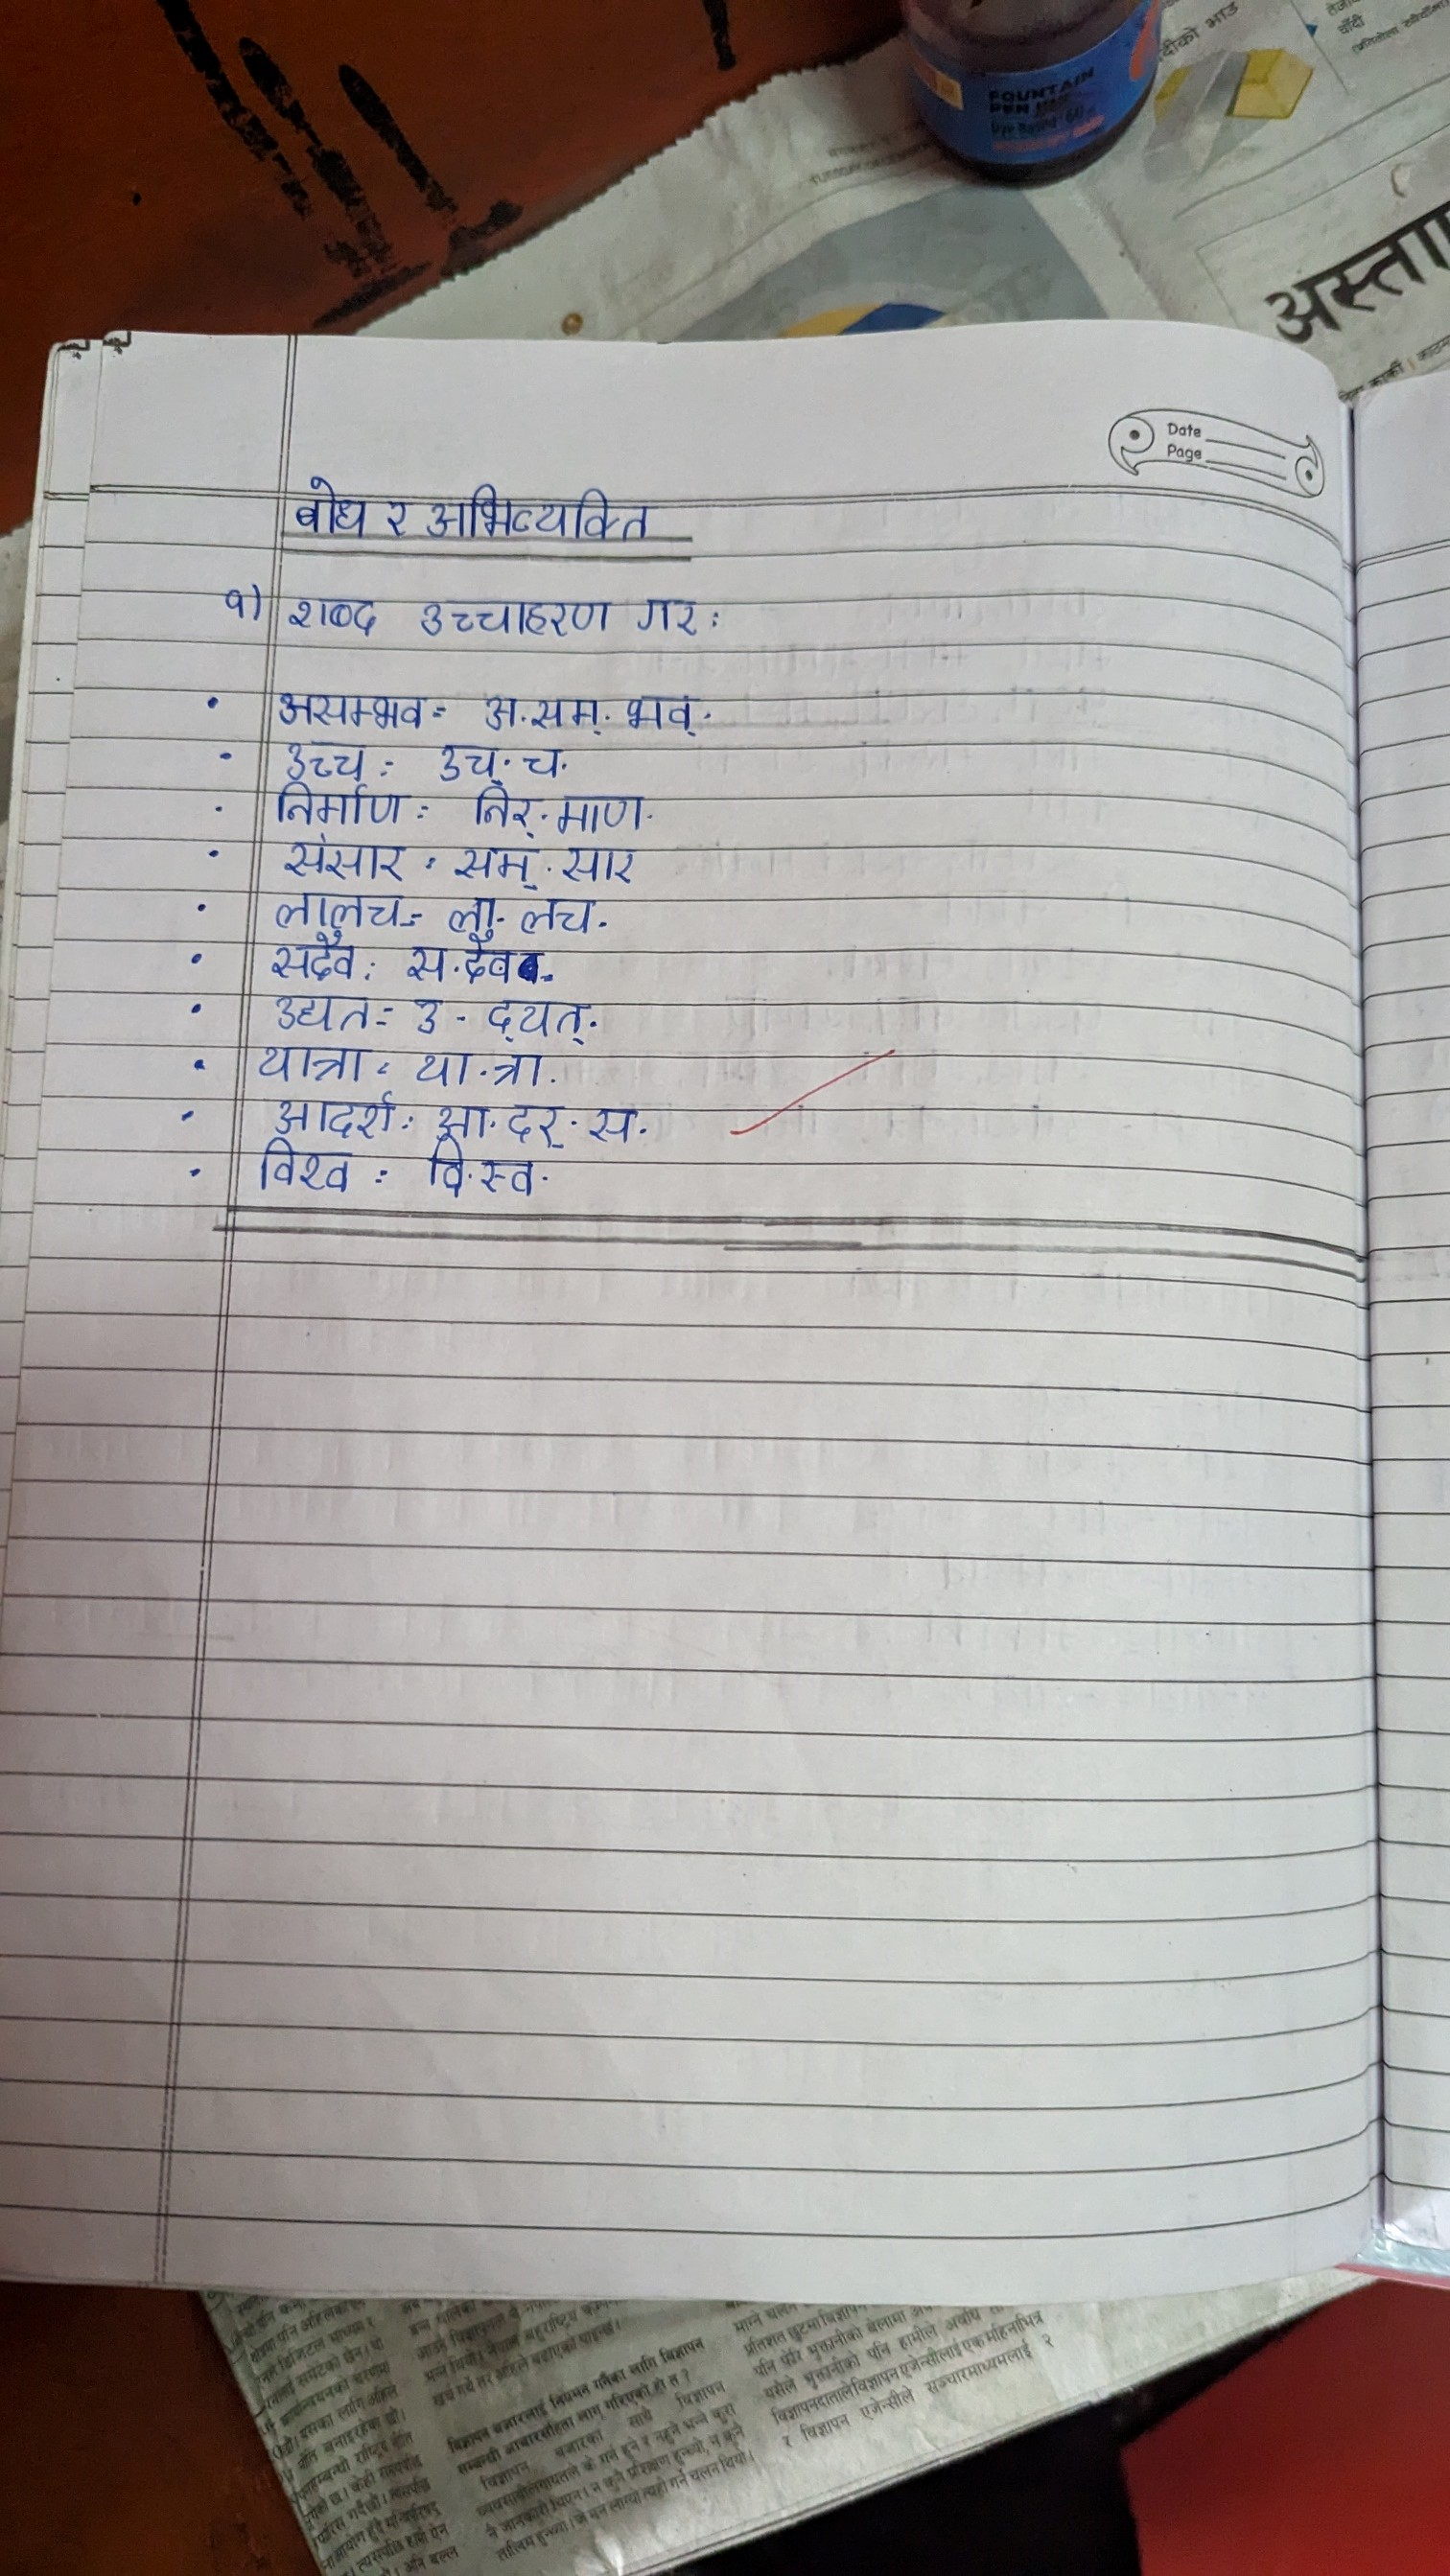text: (421, 481, 671, 547), (407, 582, 613, 642), (271, 685, 428, 734), (274, 833, 420, 881), (271, 782, 416, 828), (280, 474, 375, 543), (260, 1093, 407, 1138), (271, 888, 407, 929), (260, 929, 363, 982), (255, 1138, 354, 1192), (489, 993, 597, 1042), (285, 586, 386, 635), (620, 685, 706, 740), (551, 791, 652, 835), (280, 738, 382, 780), (258, 1040, 361, 1083), (274, 993, 377, 1033), (629, 591, 715, 639), (531, 685, 604, 738), (524, 892, 600, 938), (430, 740, 505, 786), (455, 932, 517, 987), (559, 840, 636, 885), (474, 1154, 544, 1201), (503, 1104, 572, 1152), (582, 1100, 652, 1148), (453, 842, 528, 886), (482, 1047, 551, 1093), (471, 786, 536, 833), (205, 575, 257, 633), (411, 1143, 467, 1192), (411, 1053, 469, 1090), (444, 893, 501, 931), (430, 1104, 487, 1141), (379, 488, 414, 543), (478, 694, 522, 734), (519, 741, 563, 782), (407, 1000, 451, 1039), (405, 945, 450, 984)
